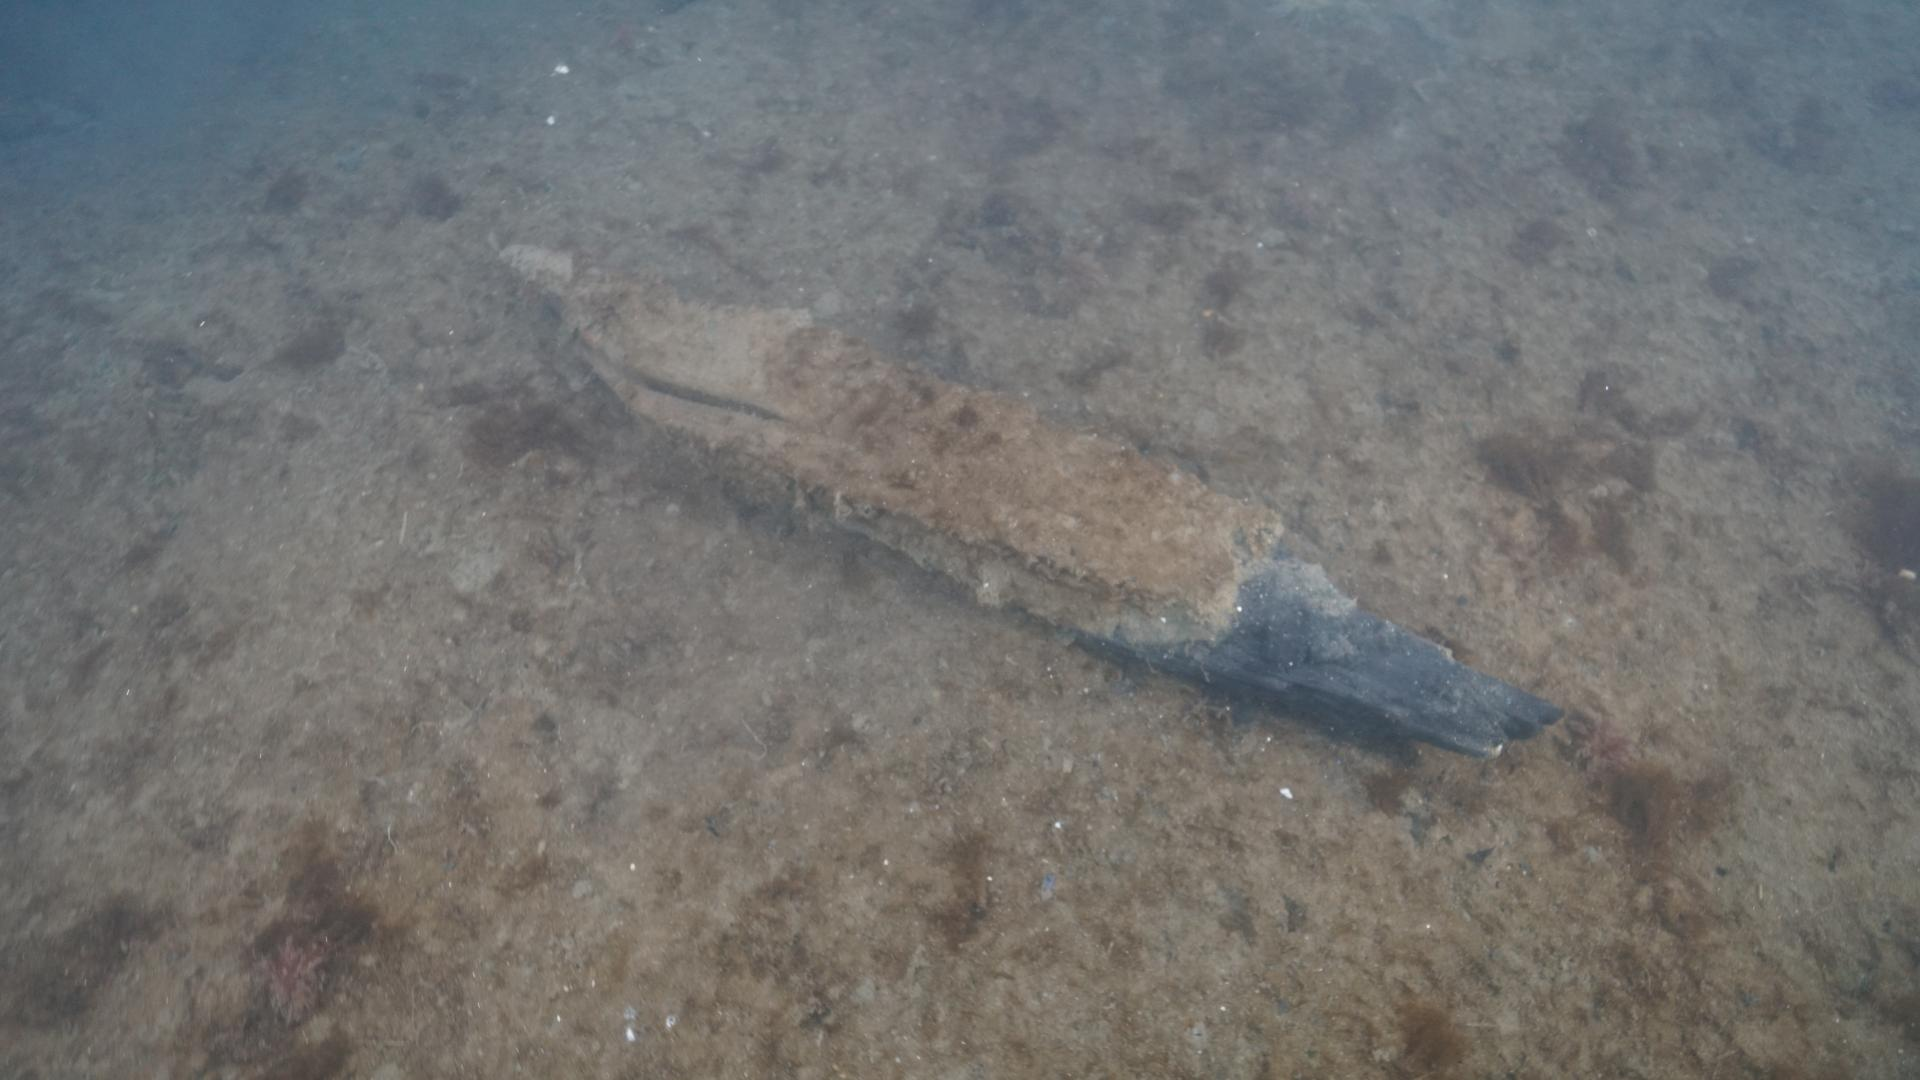wood: (485, 229, 1567, 757)
